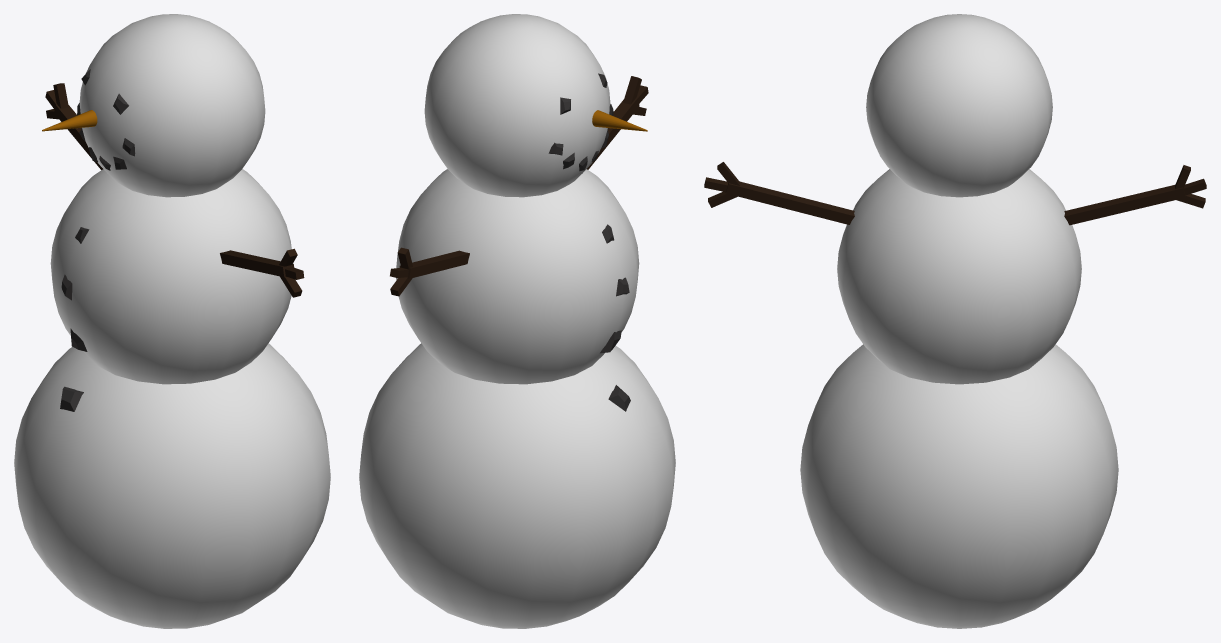
File: snowman.fbx
3 views of the same model, side by side, from view 1: azimuth 30°, elevation 25°; view 2: azimuth 150°, elevation 25°; view 3: azimuth 270°, elevation 25° (orthographic).
Parts seen in each view (by area): view 1: snowman; view 2: snowman; view 3: snowman.
Boxes of the visible parts, x1=… form: snowman: x1=14, y1=14, x2=330, y2=628; snowman: x1=359, y1=14, x2=675, y2=628; snowman: x1=704, y1=14, x2=1206, y2=628.
Bounding box in the file's own units: 0.5057 × 1.04 × 0.7978.
